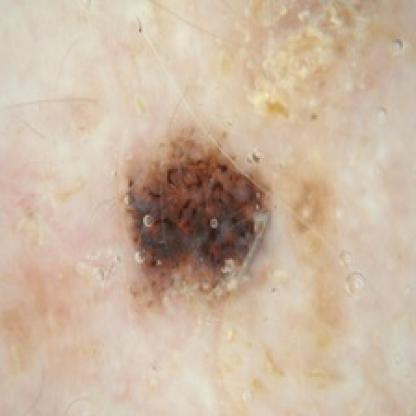malignant: (111, 126, 286, 312)
